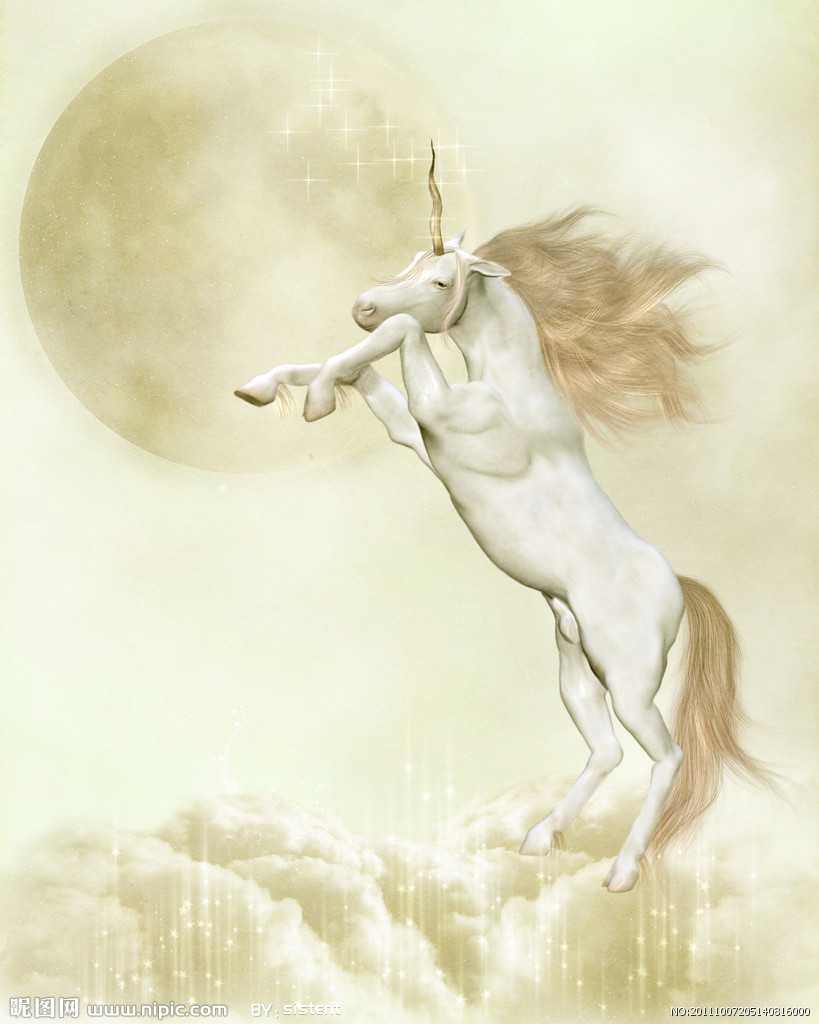background: (221, 135, 786, 909)
